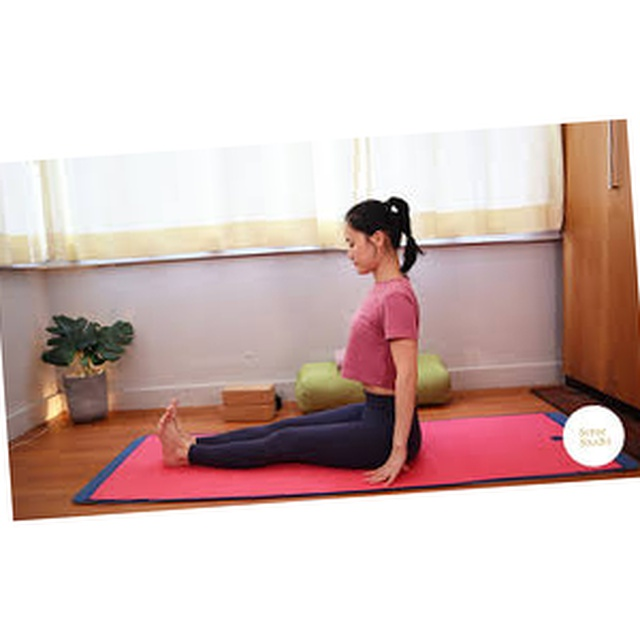Staff_Pose: (155, 195, 427, 486)
